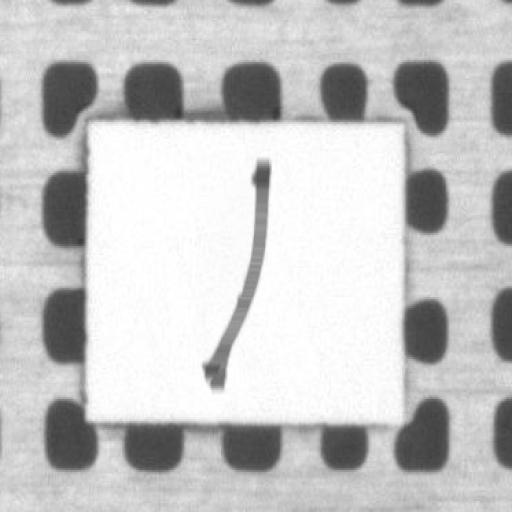DIE_INK: (252, 106, 376, 306)
